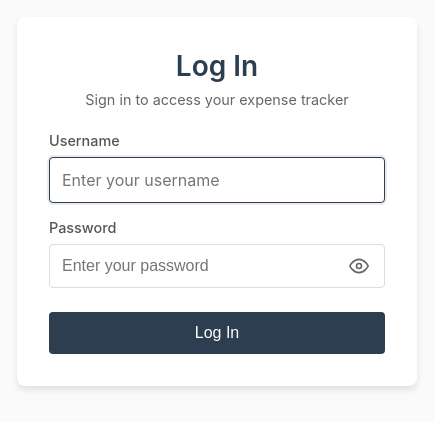
Test: LoginPage › Form validation › shows error when submitting with empty password
Type "testuser" into the field labelled "Username" at point(217, 180), box x1=49 y1=156 x2=385 y2=202
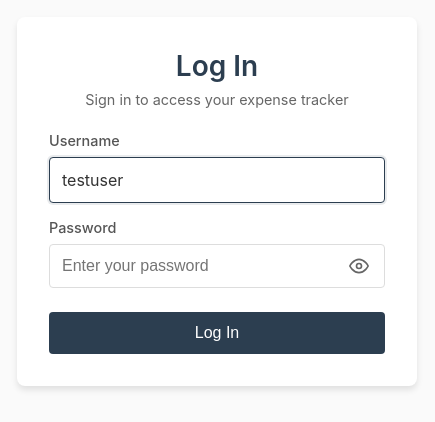
Click the button "Log In" at point(217, 332), box x1=49 y1=312 x2=385 y2=354
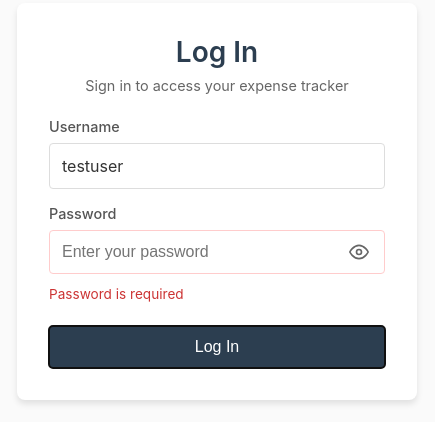
Result: the text "Password is required" is shown at x1=49 y1=286 x2=184 y2=302
